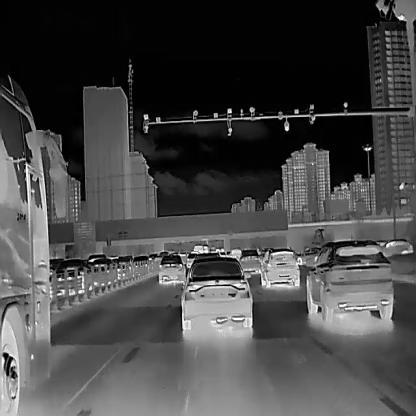car: (0, 69, 70, 415), (306, 238, 394, 322), (179, 256, 252, 329), (46, 256, 92, 298), (259, 245, 300, 287), (157, 253, 185, 283), (88, 257, 116, 286), (235, 247, 260, 272), (380, 238, 413, 256), (296, 246, 320, 269), (112, 255, 134, 276), (133, 255, 148, 273), (184, 251, 196, 268), (229, 247, 242, 259), (193, 241, 203, 253), (204, 244, 209, 254), (214, 246, 220, 251)
